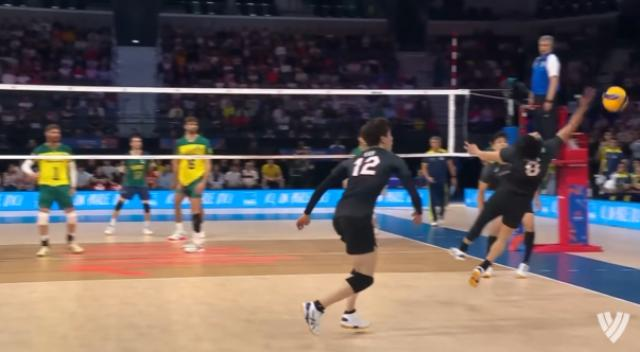Levantador: (19, 117, 93, 263)
Libero: (100, 135, 166, 241)
bola: (591, 78, 639, 122)
